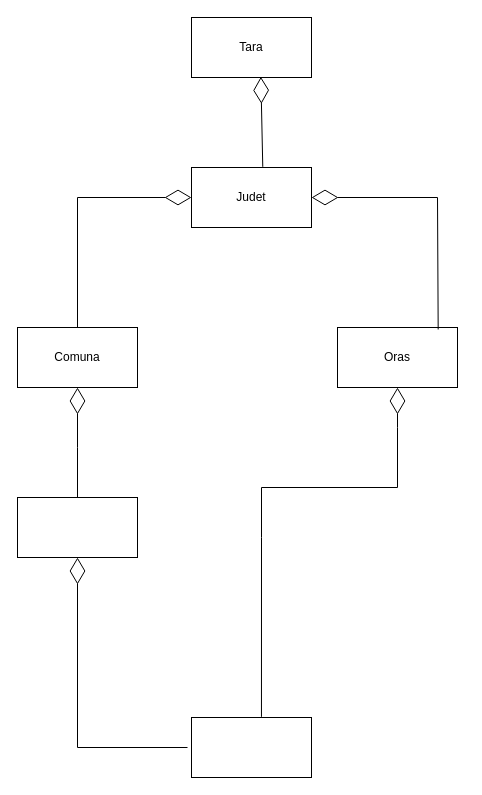
Some shapes in this 482 by 795 pixel diagram are drawn without their labels. Here are the shapes that lost their labels. From the top down, the centre of each, then its label:
At point 77,527: "Sat".
At point 251,747: "Asezare (locuinta)".
